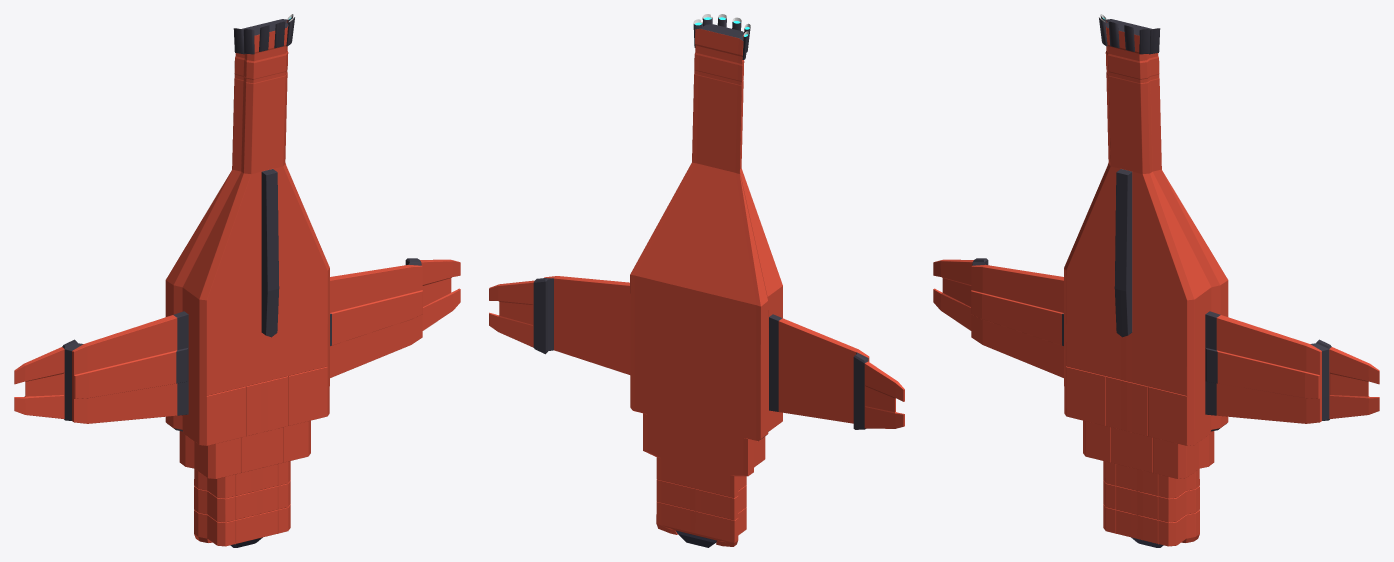
Rendered from mob.gltf.
The picture shows the model from 3 angles, left to right: view 1: azimuth 30°, elevation 25°; view 2: azimuth 150°, elevation 25°; view 3: azimuth 330°, elevation 25°; orthographic projection. The views are drawn at different scales.
Visible parts, largest first — view 1: Body; view 2: Body; view 3: Body.
Boxes of the visible parts, x1,y1,x2,y2 form: Body: (14, 14, 460, 547); Body: (489, 14, 904, 547); Body: (933, 14, 1379, 547).
Size of the model in its own units: 9.67 by 11.26 by 1.44.
